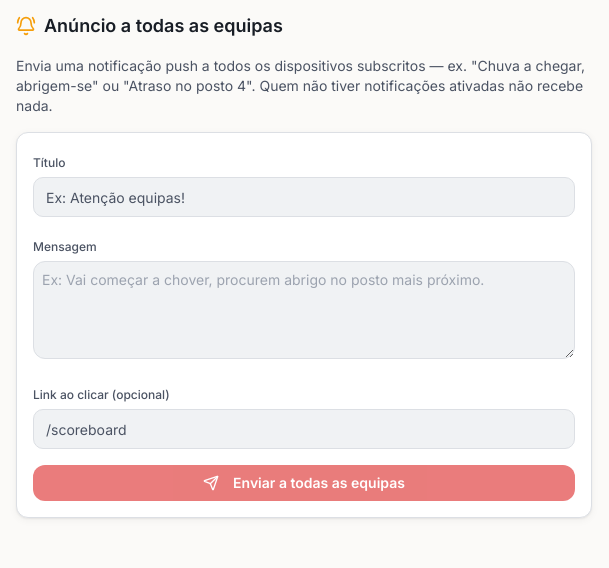
Test case: BroadcastTab › sends the announcement and shows how many devices received it
The image size is (609, 568).
Type "Chuva a chegar" into the field with placeholder "Ex: Atenção equipas!". click: (304, 197)
box: x1=33 y1=177 x2=575 y2=217
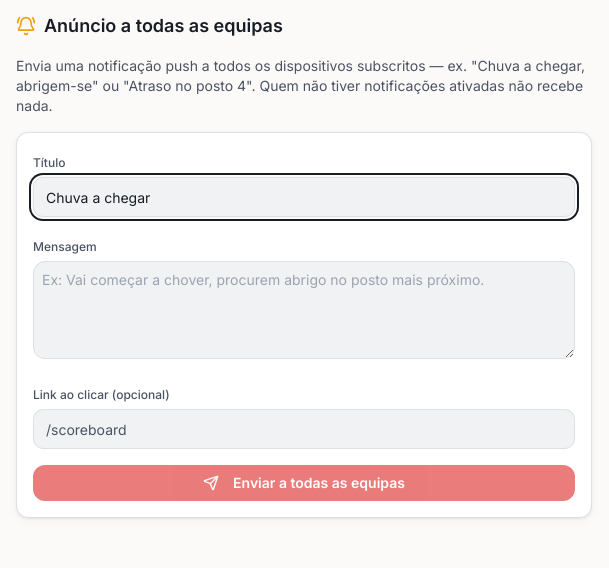
Type "Abrigem-se no posto mais próximo" into the text box with placeholder "Vai começar a chover". click: (304, 310)
box: x1=33 y1=261 x2=575 y2=359
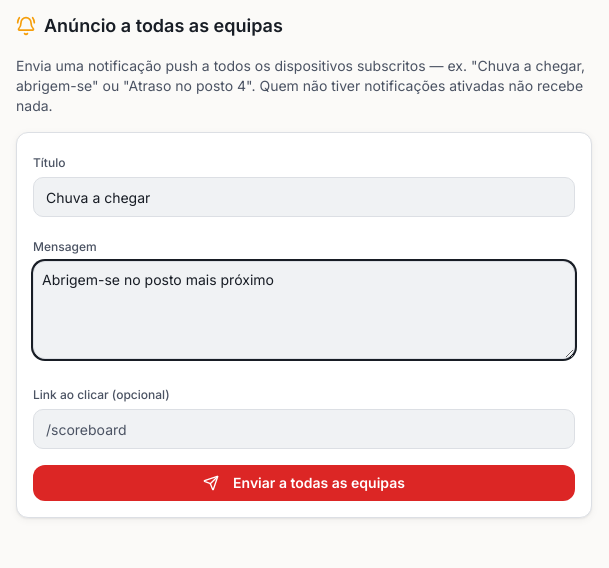
Click the button "Enviar a todas as equipas". click: (304, 483)
box: x1=33 y1=465 x2=575 y2=501
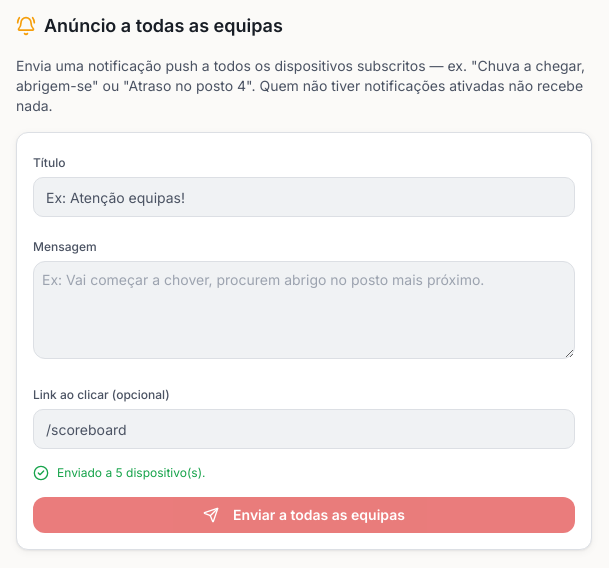
Expected: the text "Enviado a 5 dispositivo(s)." is shown, x1=33 y1=465 x2=206 y2=481
